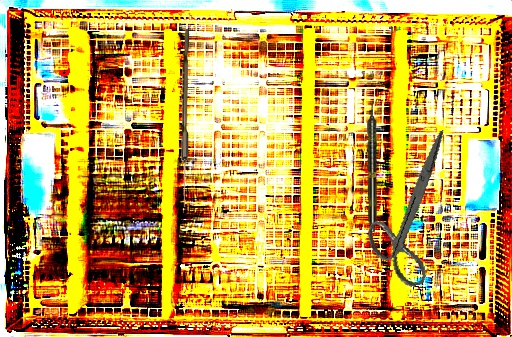Handpiece: (367, 101, 378, 232)
Iris Scissors: (347, 130, 479, 294)
Surgical Spoon: (181, 29, 189, 207)
